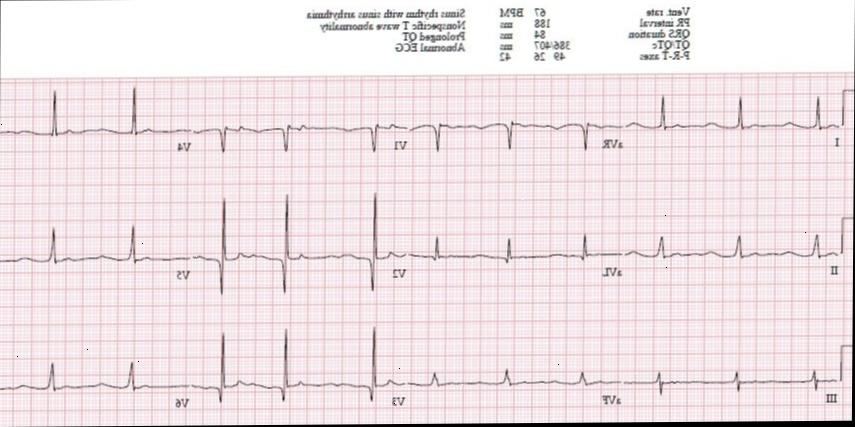Lead_I: (623, 90, 842, 153)
Lead_II: (622, 222, 843, 281)
Lead_III: (621, 353, 838, 409)
Lead_V1: (191, 106, 407, 164)
Lead_V2: (191, 184, 410, 299)
Lead_V3: (189, 313, 408, 419)
Lead_V4: (0, 79, 191, 158)
Lead_V5: (0, 214, 193, 293)
Lead_V6: (0, 349, 190, 420)
Lead_aVF: (407, 354, 623, 413)
Lead_aVL: (408, 222, 623, 286)
Lead_aVR: (408, 101, 627, 157)
